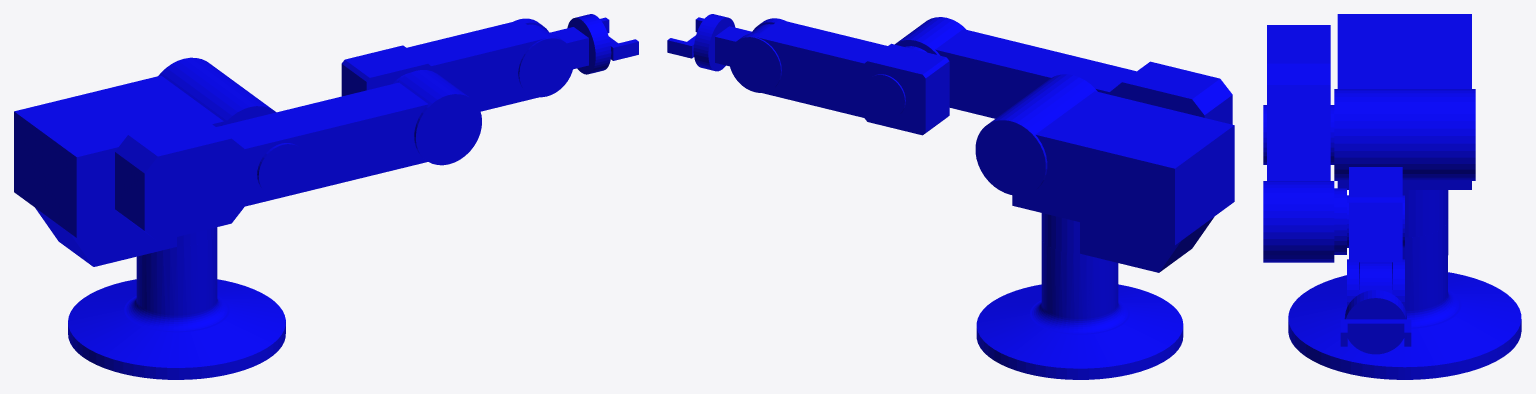
3 views of the same model, side by side, from view 1: azimuth 30°, elevation 25°; view 2: azimuth 150°, elevation 25°; view 3: azimuth 270°, elevation 25° (orthographic). The views are drawn at different scales.
Visible parts, largest first — view 1: link2, link1, base_link, link3, link4, link5; view 2: link1, base_link, link3, link2, link4, link5; view 3: link1, base_link, link2, link3, link4, link5.
Boxes of the visible parts, x1,y1,x2,y2 form: link2: (115,70,481,241); link1: (14,57,276,266); base_link: (68,231,285,379); link3: (341,18,574,111); link4: (528,14,611,74); link5: (600,17,638,60); link1: (975,74,1234,272); base_link: (976,239,1183,379); link3: (729,18,949,135); link2: (895,17,1232,124); link4: (693,14,772,71); link5: (667,17,704,58); link1: (1334,14,1475,237); base_link: (1288,219,1521,379); link2: (1263,25,1346,262); link3: (1347,167,1404,307); link4: (1344,262,1406,354); link5: (1340,319,1411,346).
Bounding box in the file's own units: 0.985 × 0.3649 × 0.409.
